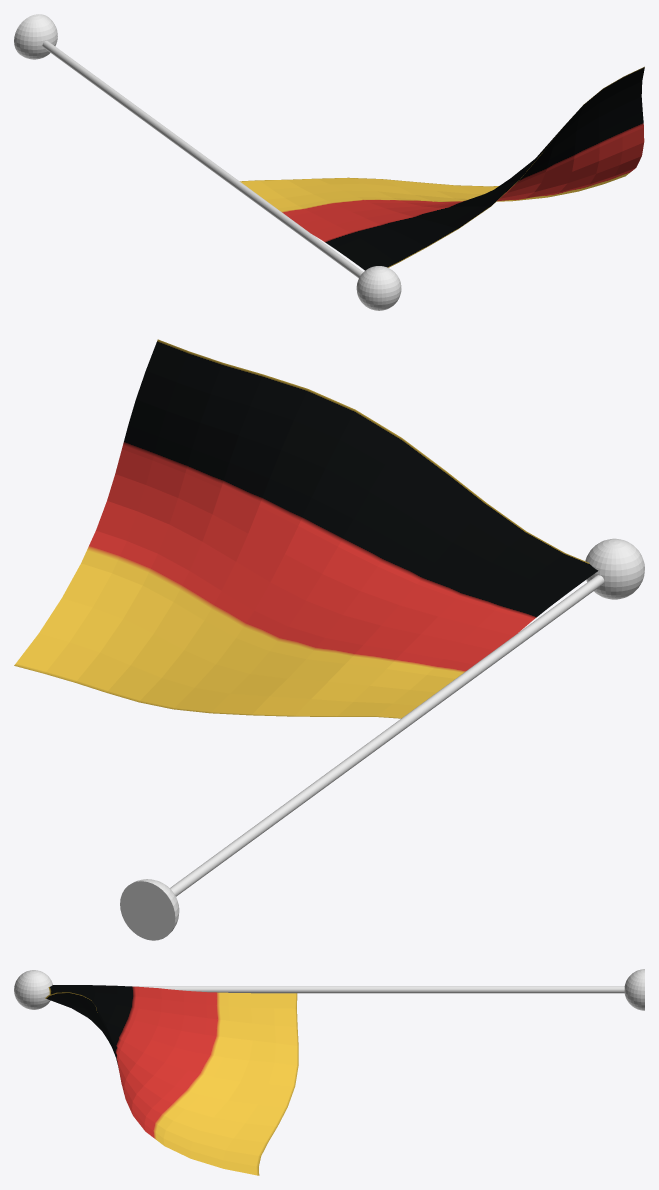
File: germany.glb
3 views of the same model, one above another, from view 1: azimuth 30°, elevation 25°; view 2: azimuth 150°, elevation 25°; view 3: azimuth 270°, elevation 25° (orthographic). The views are drawn at different scales.
Visible parts, largest first — view 1: Plane.009, Cylinder.012, Sphere.033, Sphere.032; view 2: Plane.009, Cylinder.012, Sphere.032, Sphere.033; view 3: Plane.009, Cylinder.012, Sphere.033, Sphere.032.
Boxes of the visible parts, x1,y1,x2,y2 form: Plane.009: (240, 66, 644, 270); Cylinder.012: (42, 40, 363, 278); Sphere.033: (356, 266, 401, 310); Sphere.032: (14, 14, 57, 59); Plane.009: (14, 339, 598, 718); Cylinder.012: (170, 575, 604, 896); Sphere.032: (120, 879, 179, 940); Sphere.033: (585, 538, 644, 599); Plane.009: (45, 985, 298, 1175); Cylinder.012: (132, 986, 624, 993); Sphere.033: (14, 970, 52, 1009); Sphere.032: (624, 969, 644, 1010).
Size of what is drawn, in the model's own units: 0.8806 by 0.4405 by 1.59.
Materials: 2 (1 with a texture image).
